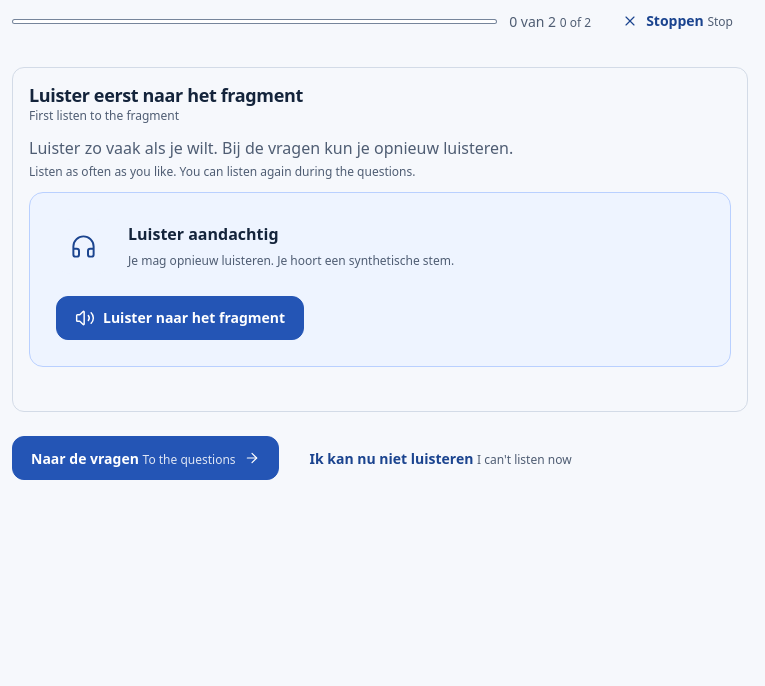
Scenario: a session inside a practice topic › hears a listening passage from the topic's own route, and lets it pass when sound cannot play
This screenshot has width=765, height=686.
Check: the heading "Luister eerst naar het fragment First listen to the fragment" is shown, box [29,83,303,124]
Check: the button "Luister naar het fragment" is shown, box [56,296,304,340]
Click the button "Ik kan nu niet luisteren I can't listen now". click: (441, 458)
box: [291,436,591,480]
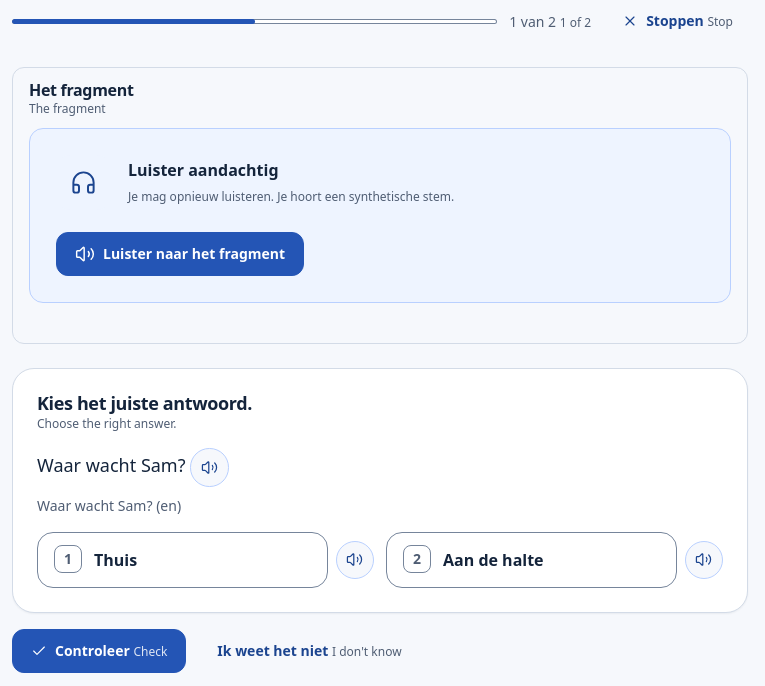
Check: the text "Waar wacht Sam?" is shown, box [37,454,186,478]
